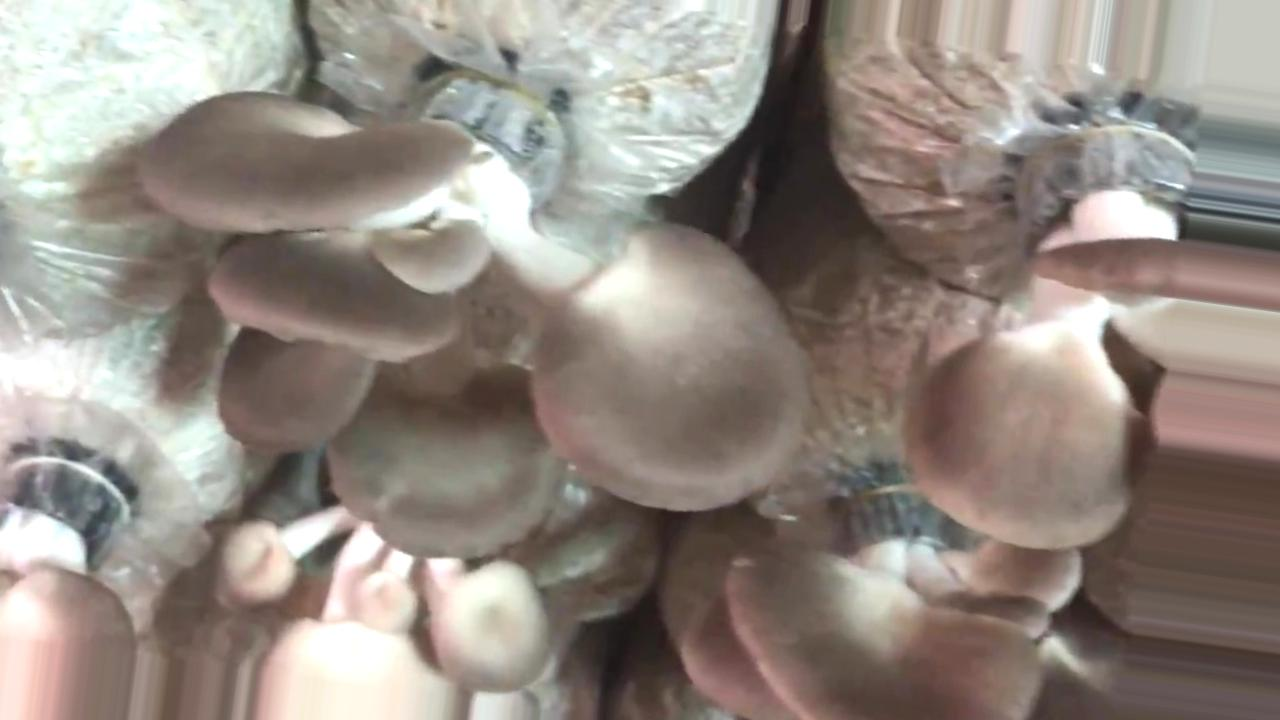nam: (138, 74, 806, 557), (905, 121, 1280, 546), (681, 495, 1081, 720), (223, 509, 553, 720), (1, 456, 138, 706)
